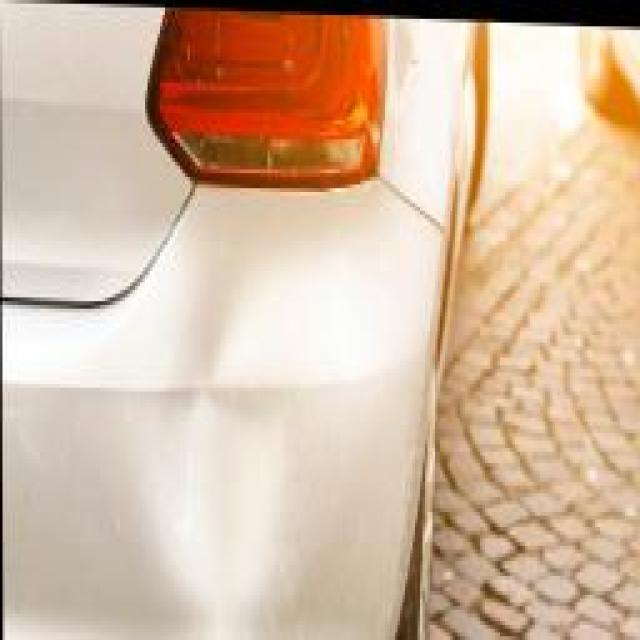Bumper: (132, 252, 319, 598)
